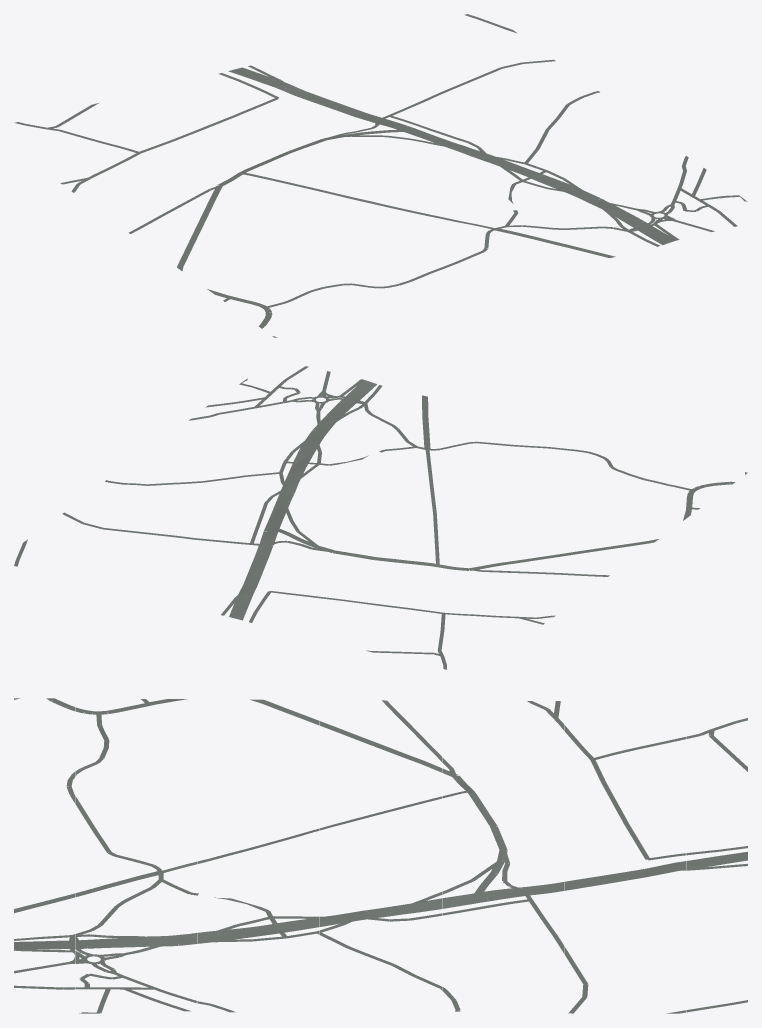
The picture shows the model from 3 angles, top to bottom: view 1: azimuth 30°, elevation 25°; view 2: azimuth 150°, elevation 25°; view 3: azimuth 270°, elevation 25°; orthographic projection. The views are drawn at different scales.
Visible parts, largest first — view 1: osm-roads; view 2: osm-roads; view 3: osm-roads.
Part boxes in pixels (x1,y1,x2,y2): osm-roads: (14,14,747,337); osm-roads: (14,366,747,669); osm-roads: (14,698,747,1013).
Bounding box in the file's own units: 720 × 10.17 × 720.
1 material, 1 textured.
